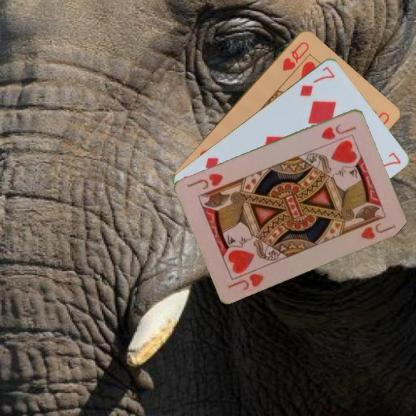7d: (297, 63, 336, 98)
Jh: (225, 270, 266, 292), (318, 120, 358, 142)
Qh: (279, 39, 310, 72)
